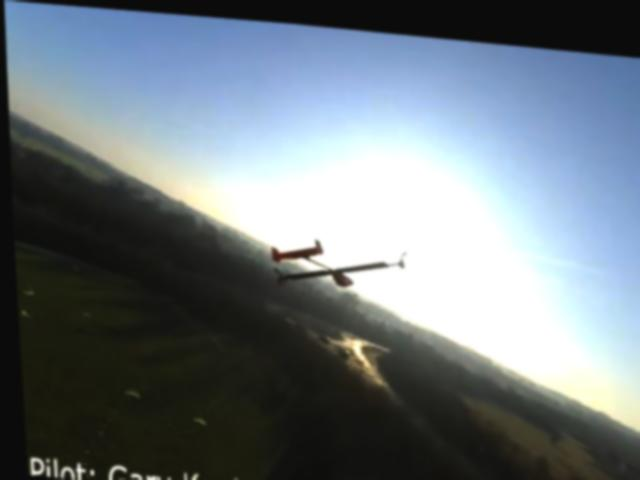uav: (259, 223, 415, 303)
